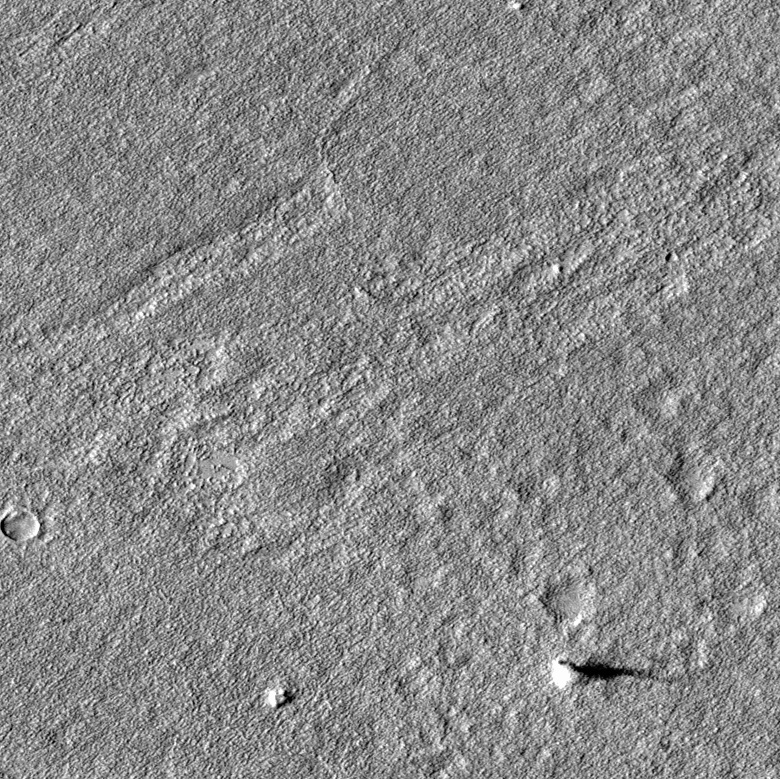dust_devil: (550, 653, 662, 689)
